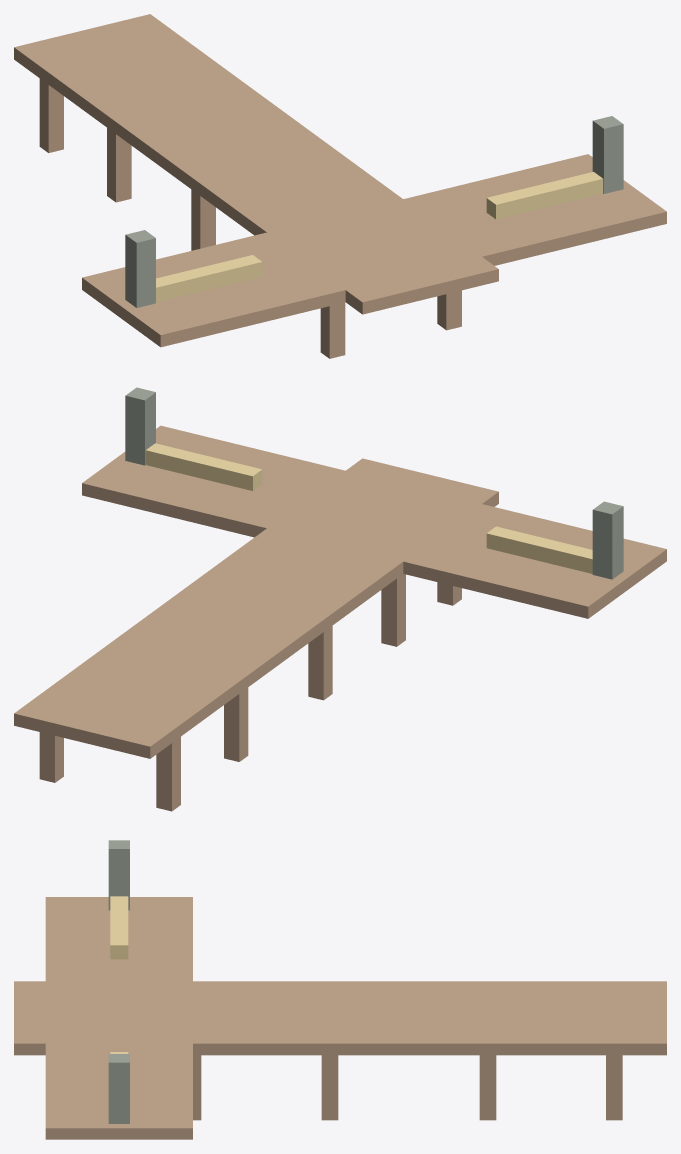
File: fishing_pier.glb
The picture shows the model from 3 angles, top to bottom: view 1: azimuth 30°, elevation 25°; view 2: azimuth 150°, elevation 25°; view 3: azimuth 270°, elevation 25°; orthographic projection. The views are drawn at different scales.
Visible parts, largest first — view 1: fishing_pier_wood, fishing_pier_gold, fishing_pier_metal; view 2: fishing_pier_wood, fishing_pier_gold, fishing_pier_metal; view 3: fishing_pier_wood, fishing_pier_metal, fishing_pier_gold.
Part boxes in pixels (box(x1,y1,x2,y2)): fishing_pier_wood: box(14, 14, 666, 358); fishing_pier_gold: box(156, 172, 603, 302); fishing_pier_metal: box(125, 116, 623, 307); fishing_pier_wood: box(14, 425, 666, 811); fishing_pier_gold: box(145, 443, 592, 573); fishing_pier_metal: box(125, 387, 623, 579); fishing_pier_wood: box(14, 897, 666, 1139); fishing_pier_metal: box(108, 840, 129, 1123); fishing_pier_gold: box(110, 896, 128, 1053).
Size of the model in its own units: 52 by 14.5 by 62.
